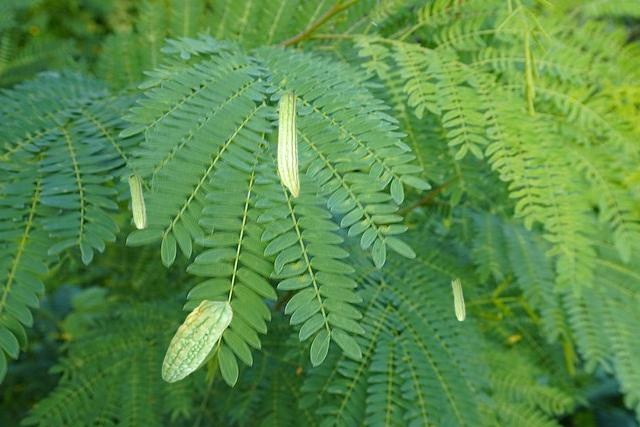ampalaya: (161, 299, 233, 382), (277, 88, 299, 198), (128, 173, 147, 229), (451, 277, 466, 321)
